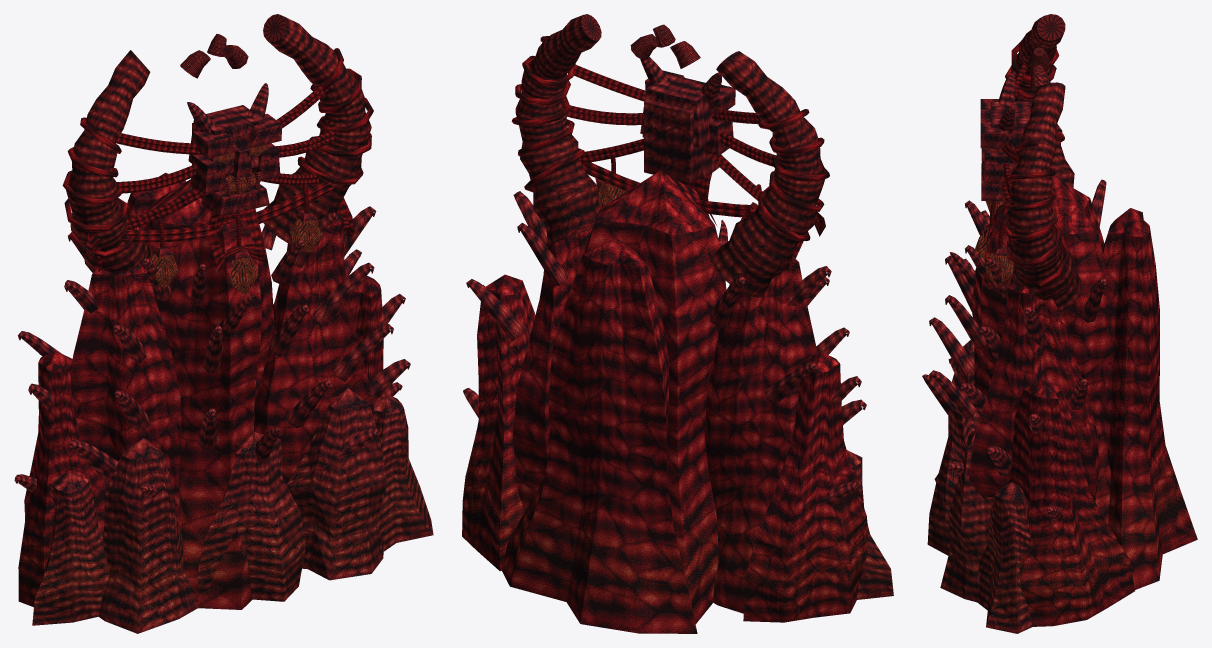
The model's file is Monument_HornedColossus_North.glb.
The picture shows the model from 3 angles, left to right: view 1: azimuth 30°, elevation 25°; view 2: azimuth 150°, elevation 25°; view 3: azimuth 270°, elevation 25°; orthographic projection. The views are drawn at different scales.
Visible parts, largest first — view 1: Colossus_Crag_Spire, Colossus_Calcified_Flanks, Colossus_Broken_Horns, Colossus_Flank_Tusks, Colossus_Lashing_Cables, Colossus_Skull_Idol, Colossus_Acid_Glow_And_Orbs; view 2: Colossus_Crag_Spire, Colossus_Broken_Horns, Colossus_Lashing_Cables, Colossus_Skull_Idol, Colossus_Flank_Tusks, Colossus_Calcified_Flanks; view 3: Colossus_Crag_Spire, Colossus_Calcified_Flanks, Colossus_Broken_Horns, Colossus_Flank_Tusks, Colossus_Skull_Idol, Colossus_Lashing_Cables, Colossus_Acid_Glow_And_Orbs.
Part boxes in pixels (<box>): Colossus_Crag_Spire: <box>18,172,417,609</box>; Colossus_Calcified_Flanks: <box>32,388,433,633</box>; Colossus_Broken_Horns: <box>66,14,371,272</box>; Colossus_Flank_Tusks: <box>14,171,410,506</box>; Colossus_Lashing_Cables: <box>62,48,373,292</box>; Colossus_Skull_Idol: <box>151,83,316,260</box>; Colossus_Acid_Glow_And_Orbs: <box>150,144,322,295</box>; Colossus_Crag_Spire: <box>462,171,867,633</box>; Colossus_Broken_Horns: <box>515,14,825,297</box>; Colossus_Lashing_Cables: <box>511,36,829,258</box>; Colossus_Skull_Idol: <box>603,57,735,185</box>; Colossus_Flank_Tusks: <box>463,178,866,505</box>; Colossus_Calcified_Flanks: <box>846,450,893,599</box>; Colossus_Crag_Spire: <box>969,176,1197,626</box>; Colossus_Calcified_Flanks: <box>927,340,1032,633</box>; Colossus_Broken_Horns: <box>1006,14,1081,312</box>; Colossus_Flank_Tusks: <box>922,161,1106,520</box>; Colossus_Skull_Idol: <box>980,72,1030,255</box>; Colossus_Lashing_Cables: <box>986,40,1069,318</box>; Colossus_Acid_Glow_And_Orbs: <box>975,148,1014,284</box>.
Size of the model in its own units: 22.36 by 27.49 by 13.91.
Materials: 7 (7 with a texture image).
